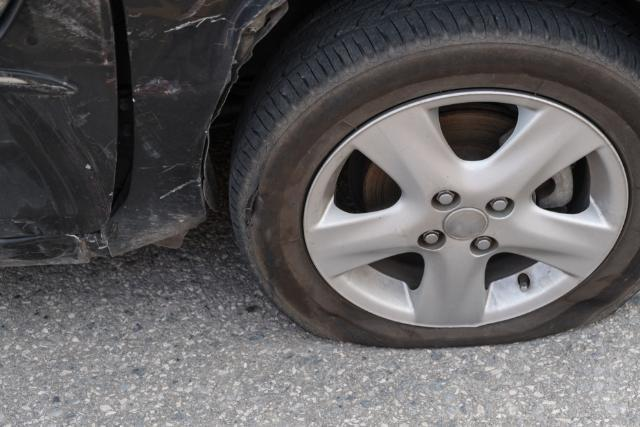Door: (0, 0, 114, 269)
Fender: (116, 0, 216, 264)
